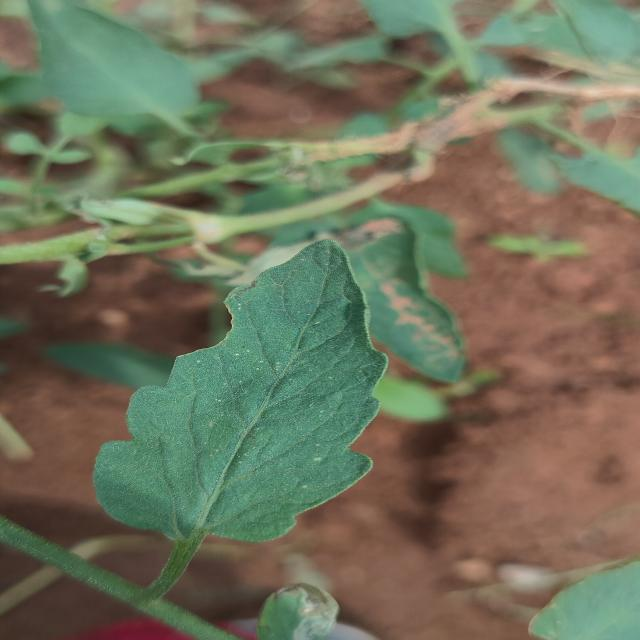tomato_healthy: (83, 223, 392, 544)
